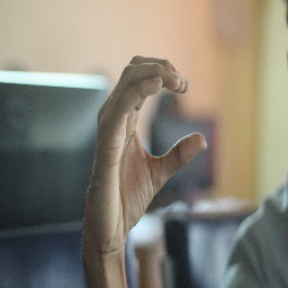C: (102, 53, 221, 187)
